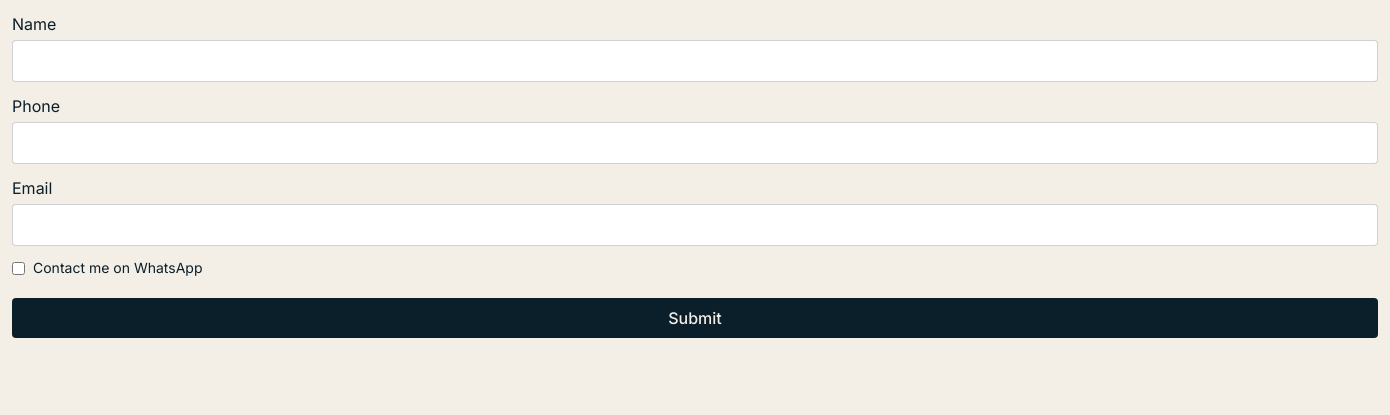
Scenario: LeadForm › shows validation errors when submitted empty
Click the button "Submit": (695,318) [12,298,1378,338]
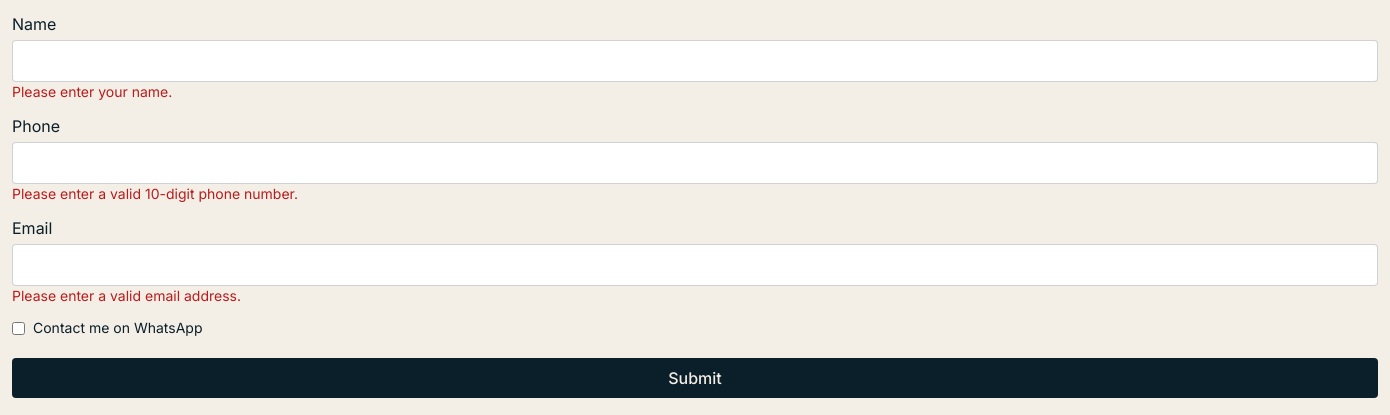
Expected: the text "Please enter your name." is shown, [12,83,172,100]
Expected: the text "Please enter a valid 10-digit phone number." is shown, [12,185,298,202]
Expected: the text "Please enter a valid email address." is shown, [12,287,241,304]
